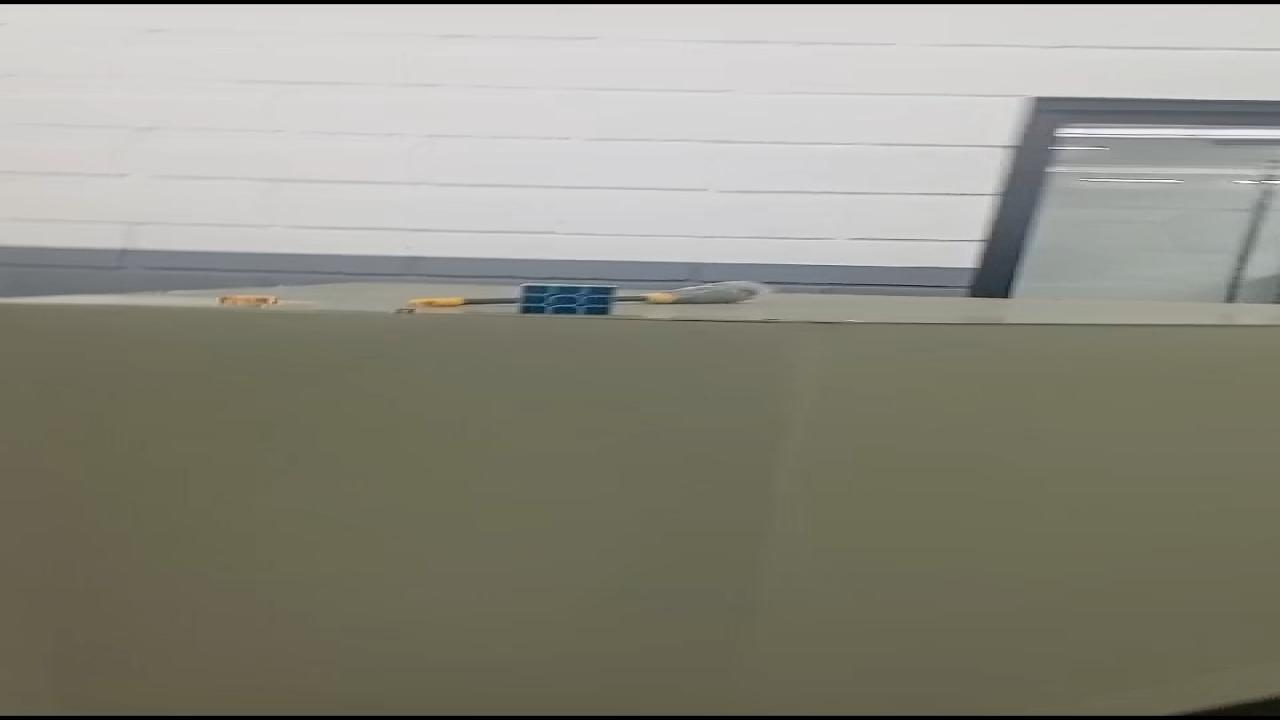Cube: (517, 284, 623, 314)
